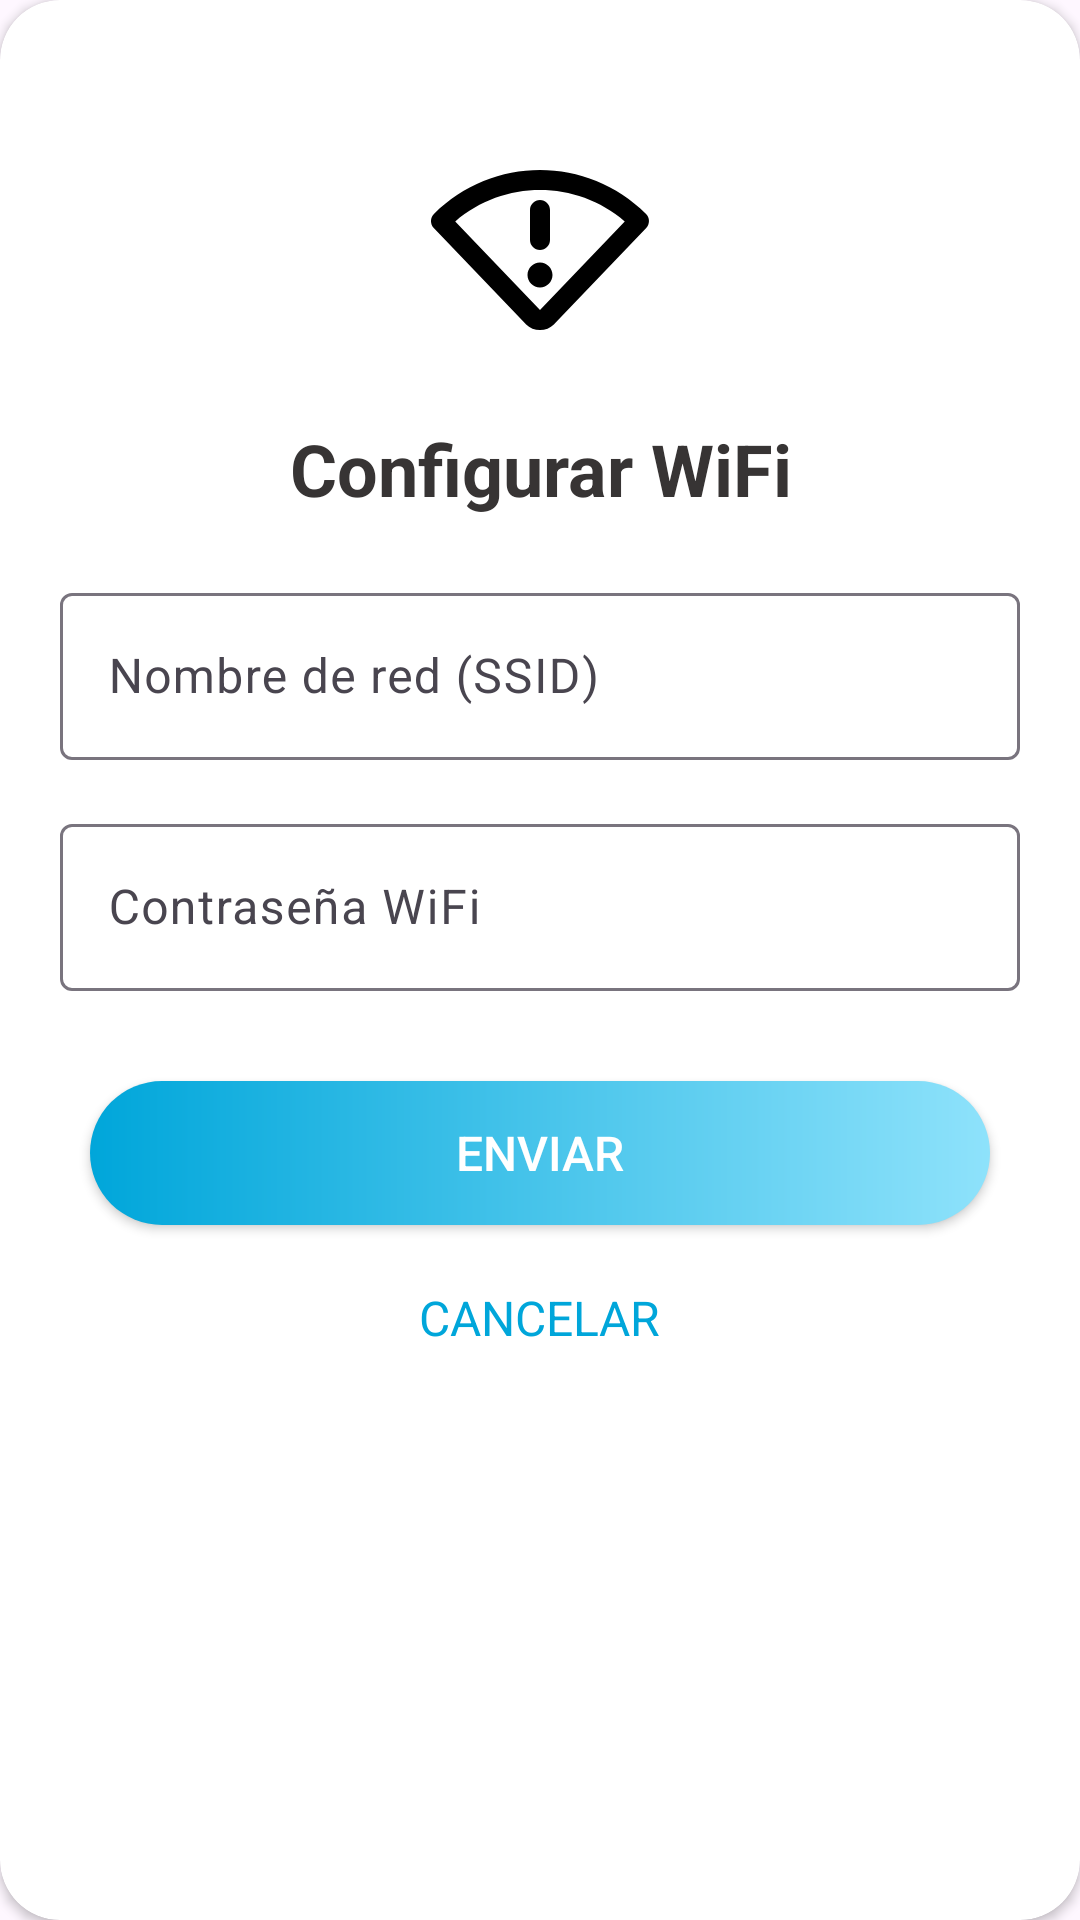

Icons on this 1080px x 1920px Android screen, each with the point to tap as (x,y):
error network: (540,250)
